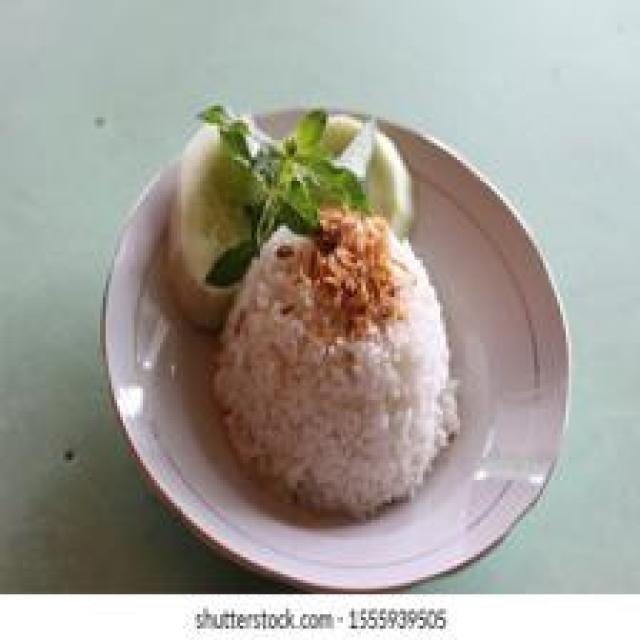Wet Waste: (218, 212, 472, 521)
